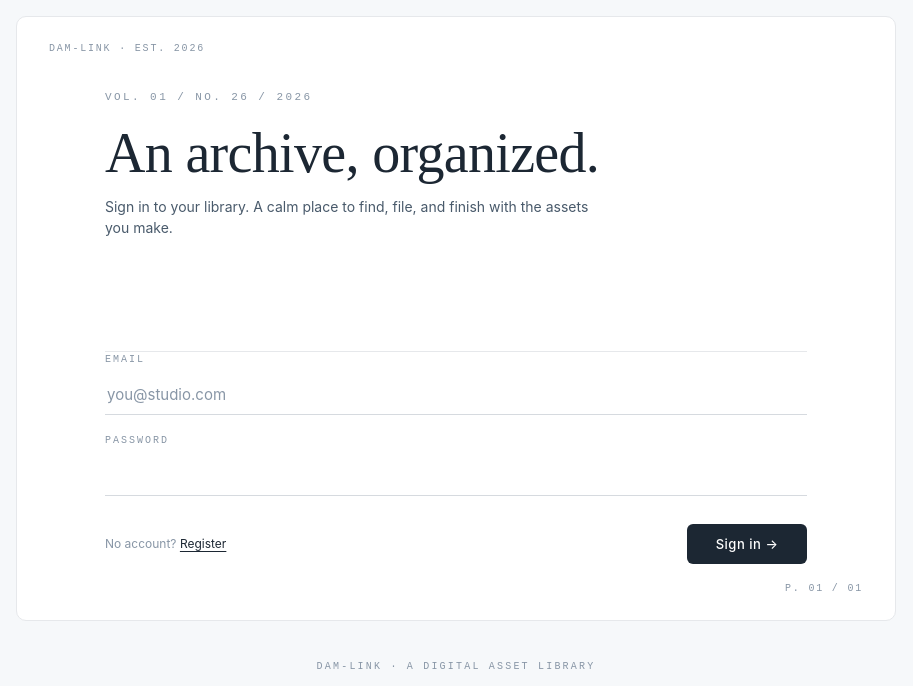
Scenario: LoginScreen error handling (T5) › renders the ApiError message verbatim in an alert region
The width and height of the screenshot is (913, 686).
Type "me@studio.com" into the field labelled "Email" at (456, 395), box x1=105 y1=375 x2=807 y2=415
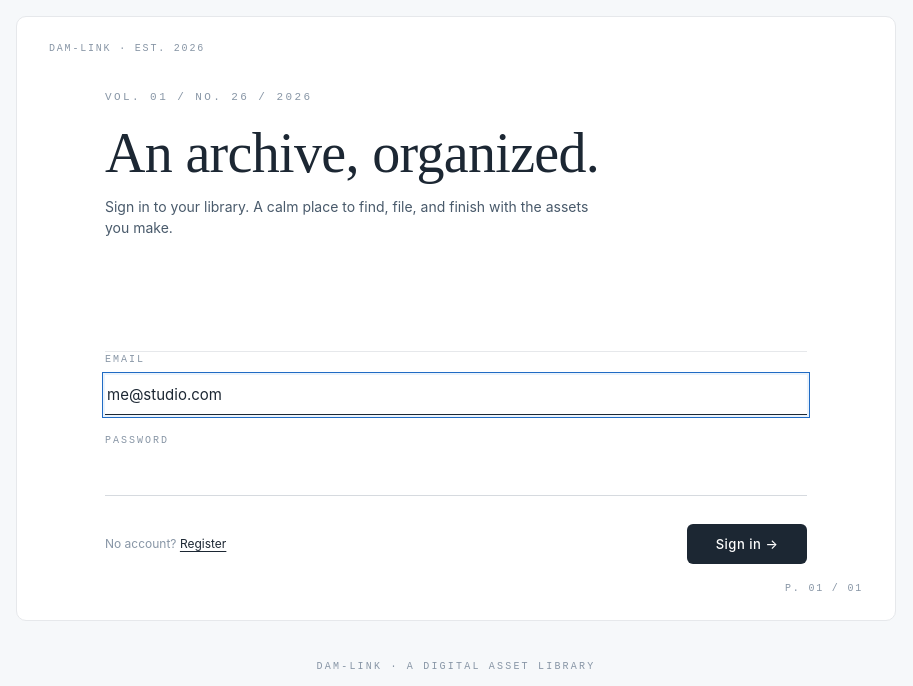
Type "wrongpassword" into the password field labelled "Password" at (456, 476), box x1=105 y1=456 x2=807 y2=496
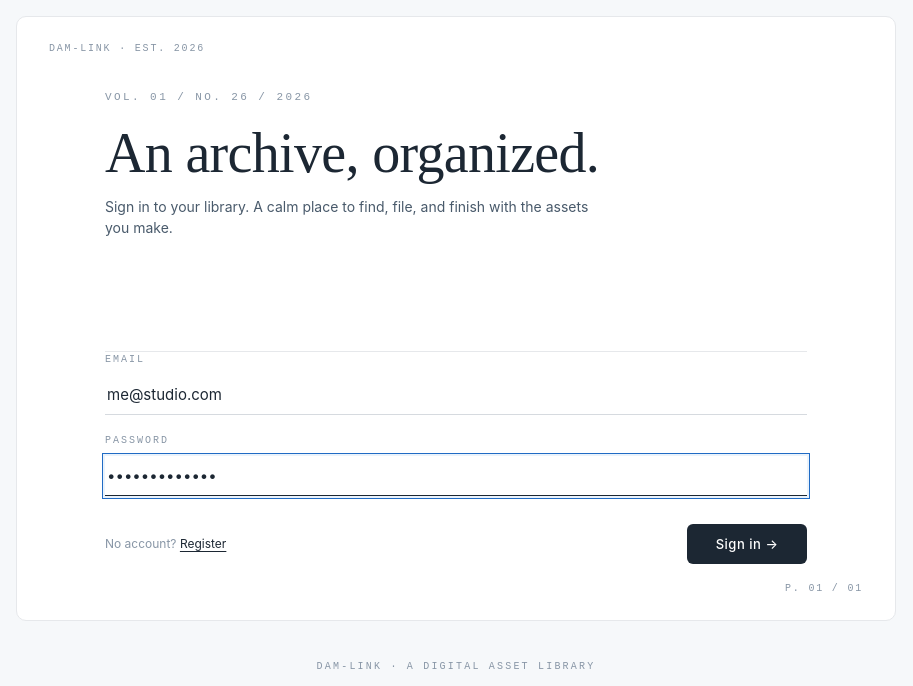
Click the button "Sign in →" at (747, 544), box x1=687 y1=524 x2=807 y2=564
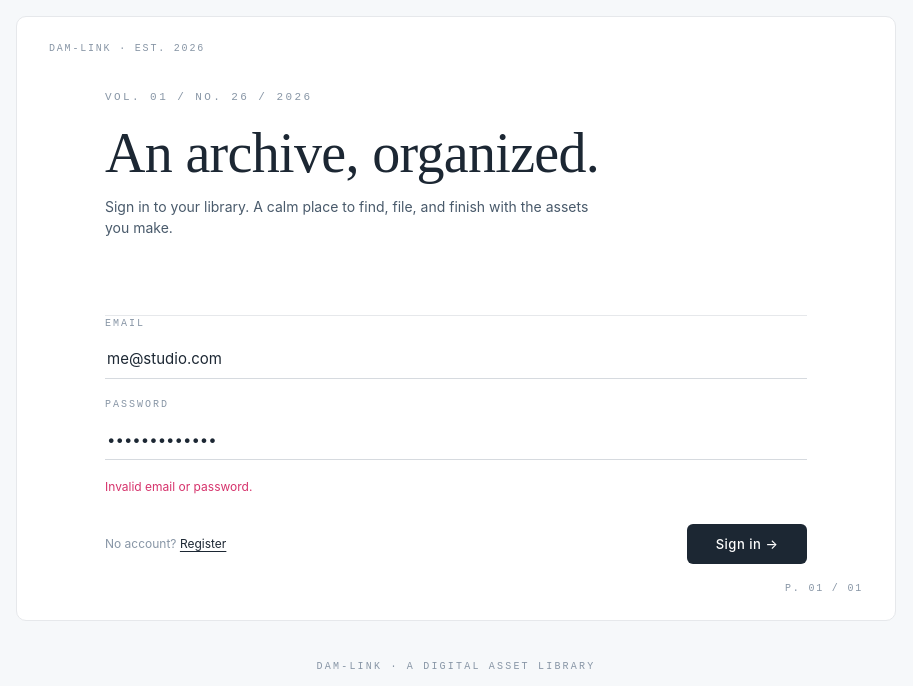
Check: the message reads "Invalid email or password.", box x1=105 y1=479 x2=252 y2=494
